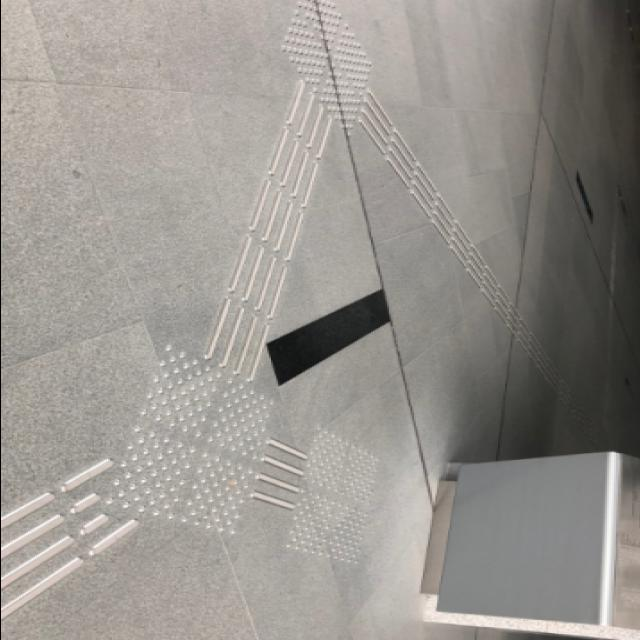tactile-guide-path: (356, 86, 562, 390), (200, 79, 332, 383), (106, 347, 276, 535), (2, 459, 136, 625), (282, 429, 378, 565), (279, 0, 372, 139), (250, 438, 306, 510)
